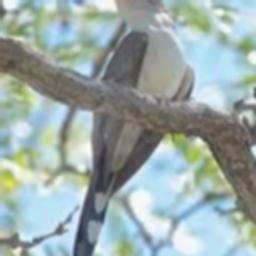Cuckoo: (71, 0, 194, 256)
